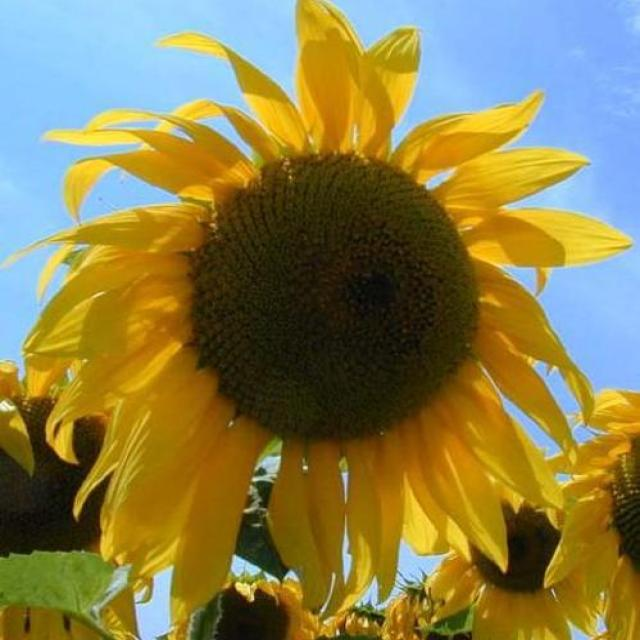sunflower: (0, 0, 640, 640), (0, 356, 148, 640), (420, 445, 606, 640), (533, 380, 640, 640), (202, 572, 322, 640), (0, 602, 115, 639), (389, 574, 448, 640), (321, 585, 390, 640)
